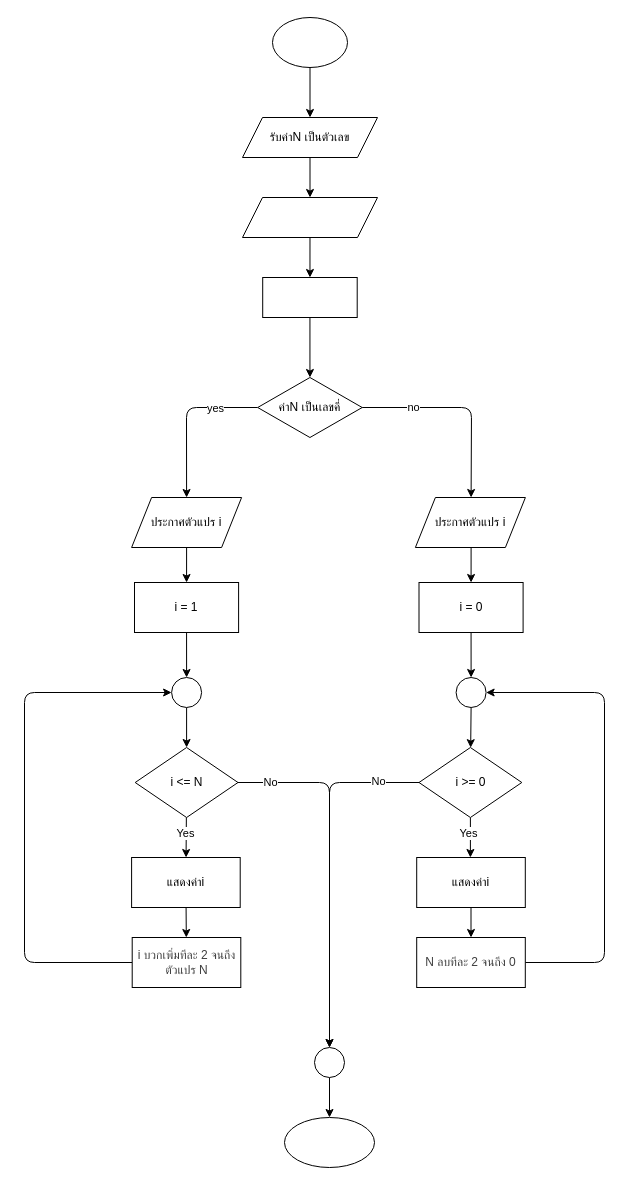
This 630x1185 diagram has some shape labels left out. The centre of each missing label's shape, as x and y in pixels:
ตัวอักษร = 0: the point at 310,217
สิ้นสุด: the point at 329,1142
หาค่าNโดยการหาร2: the point at 309,297
เริ่มต้น: the point at 310,42
